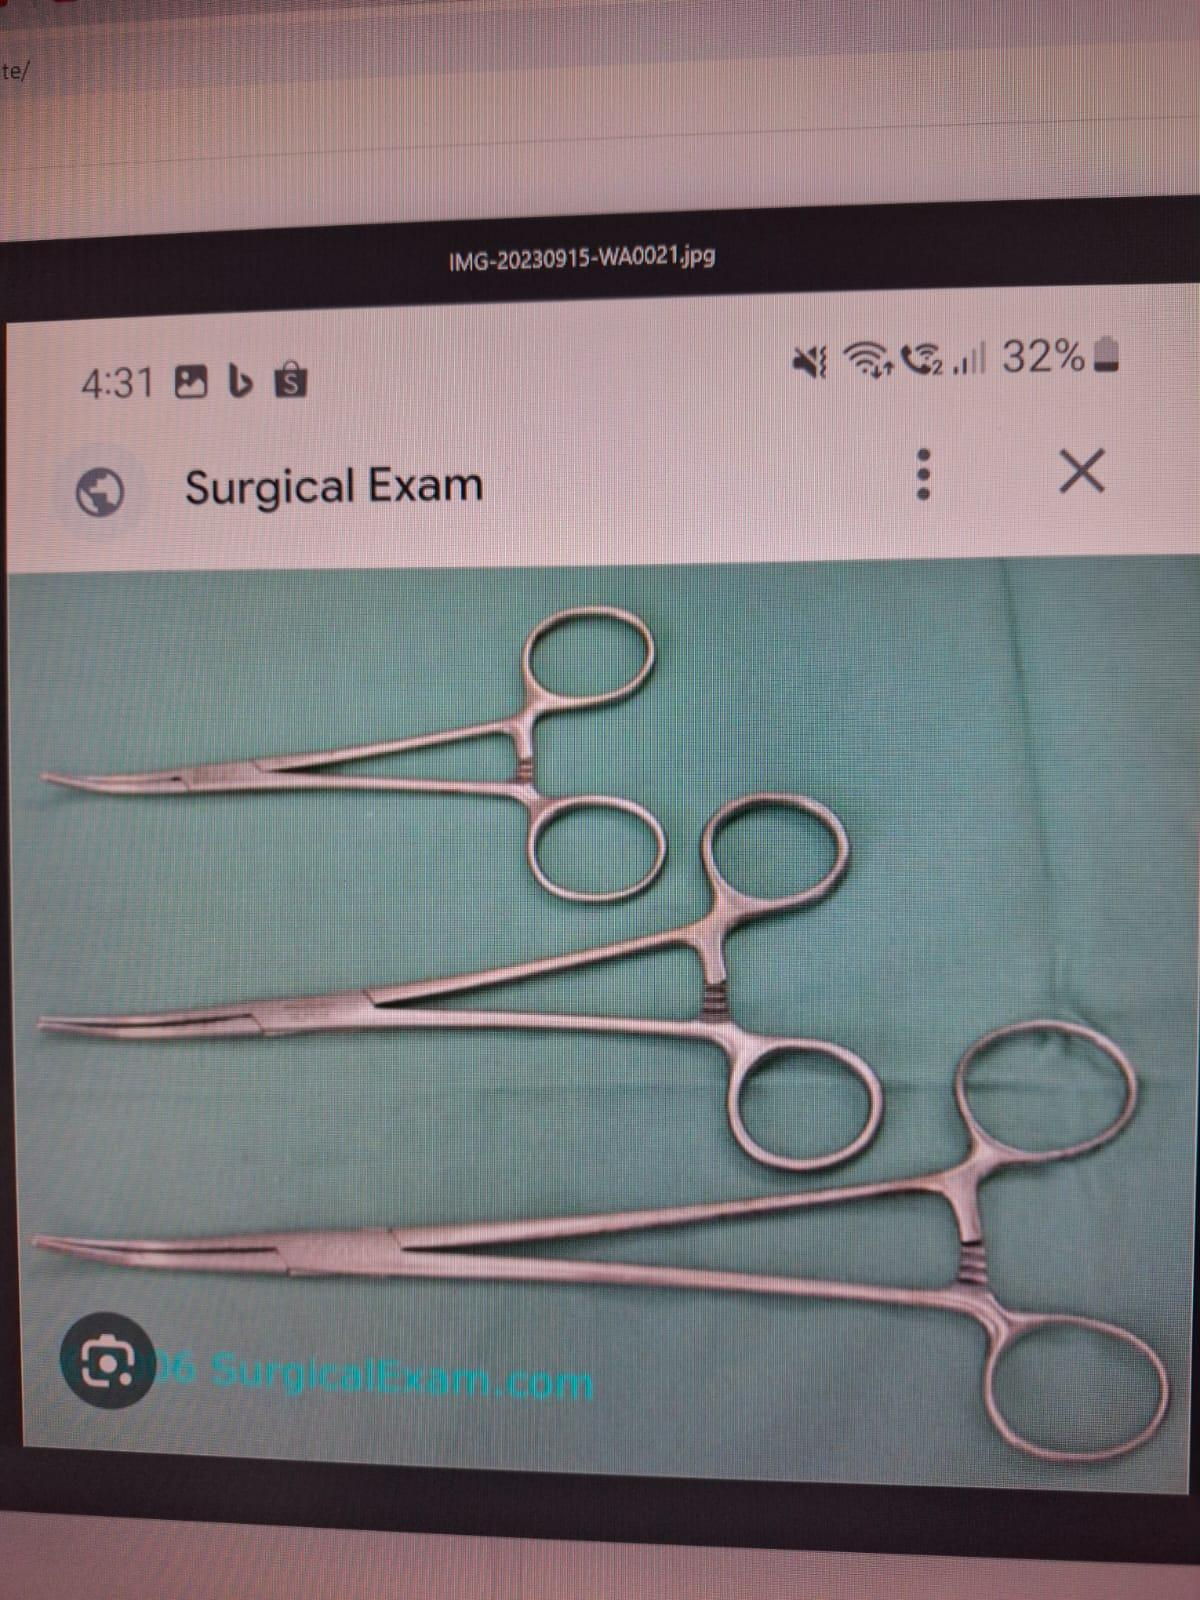Artery Forceps: (25, 1010, 1180, 1470), (28, 790, 892, 1180), (30, 585, 678, 910)
